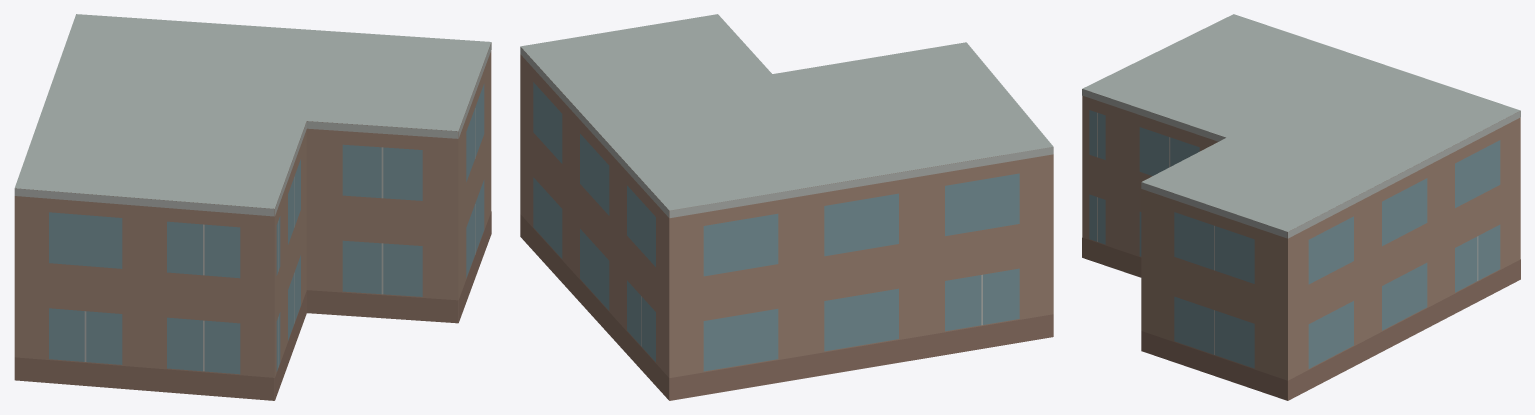
Rendered from survey-upis-32904442.glb.
The picture shows the model from 3 angles, left to right: view 1: azimuth 30°, elevation 25°; view 2: azimuth 150°, elevation 25°; view 3: azimuth 270°, elevation 25°; orthographic projection. The views are drawn at different scales.
Parts seen in each view (by area): view 1: survey-upis-32904442.tmp; view 2: survey-upis-32904442.tmp; view 3: survey-upis-32904442.tmp.
Part boxes in pixels (<box>): survey-upis-32904442.tmp: <box>14,14,491,400</box>; survey-upis-32904442.tmp: <box>520,14,1053,400</box>; survey-upis-32904442.tmp: <box>1082,14,1520,400</box>.
Size of the model in its own units: 16.88 by 6.1 by 14.36.
